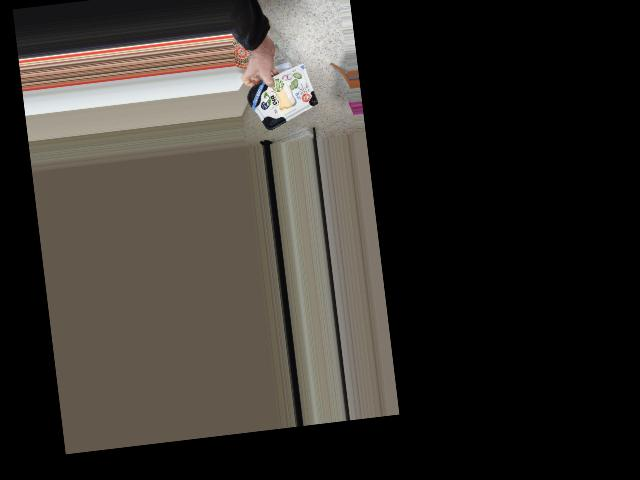cheese: (243, 72, 319, 128)
